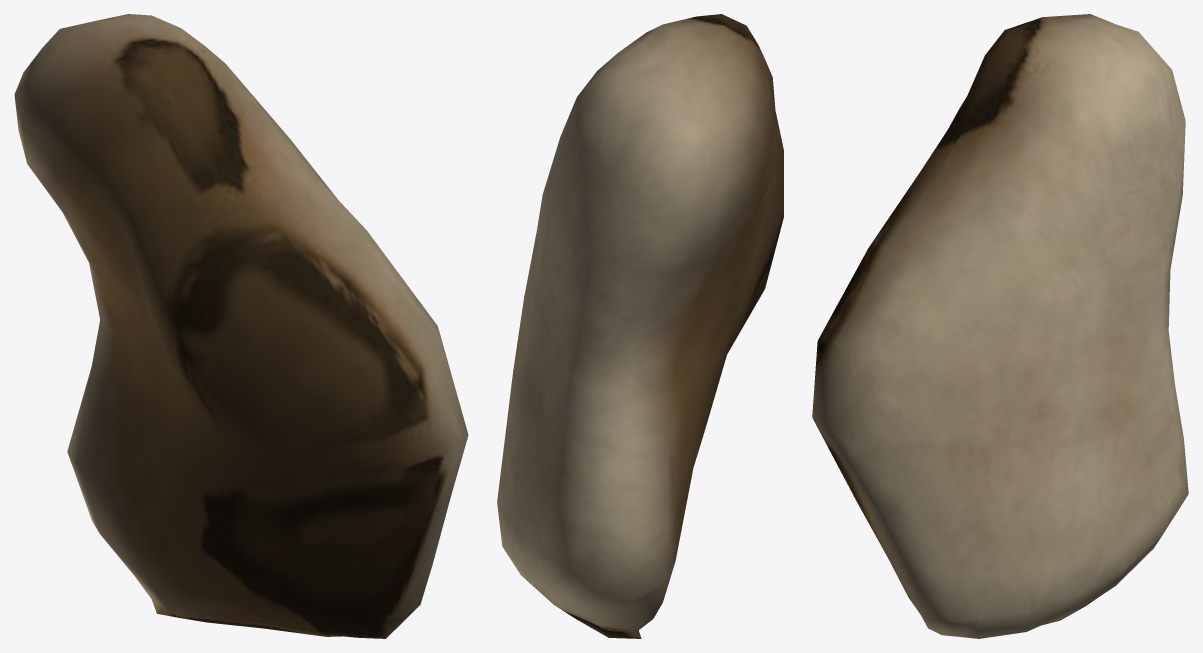
The model's file is Tarsal_I.glb.
3 renders of one model, left to right at view 1: azimuth 30°, elevation 25°; view 2: azimuth 150°, elevation 25°; view 3: azimuth 270°, elevation 25°, orthographic. The views are drawn at different scales.
Parts seen in each view (by area): view 1: Tarsal_I_Right1:Group13918; view 2: Tarsal_I_Right1:Group13918; view 3: Tarsal_I_Right1:Group13918.
Part boxes in pixels (bbox=[...]): Tarsal_I_Right1:Group13918: bbox=[14, 14, 468, 638]; Tarsal_I_Right1:Group13918: bbox=[497, 14, 783, 638]; Tarsal_I_Right1:Group13918: bbox=[812, 14, 1188, 638].
Size of the model in its own units: 6.23 by 12 by 7.56.
Materials: 1 (1 with a texture image).
